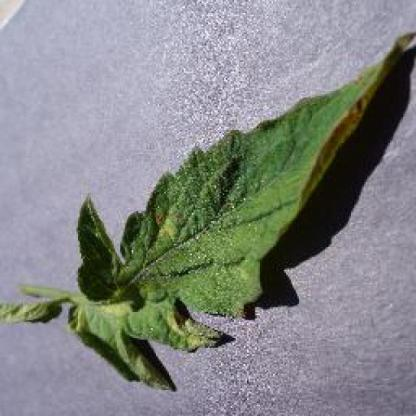Tomato_Leaf_Mold: (76, 33, 412, 390)
